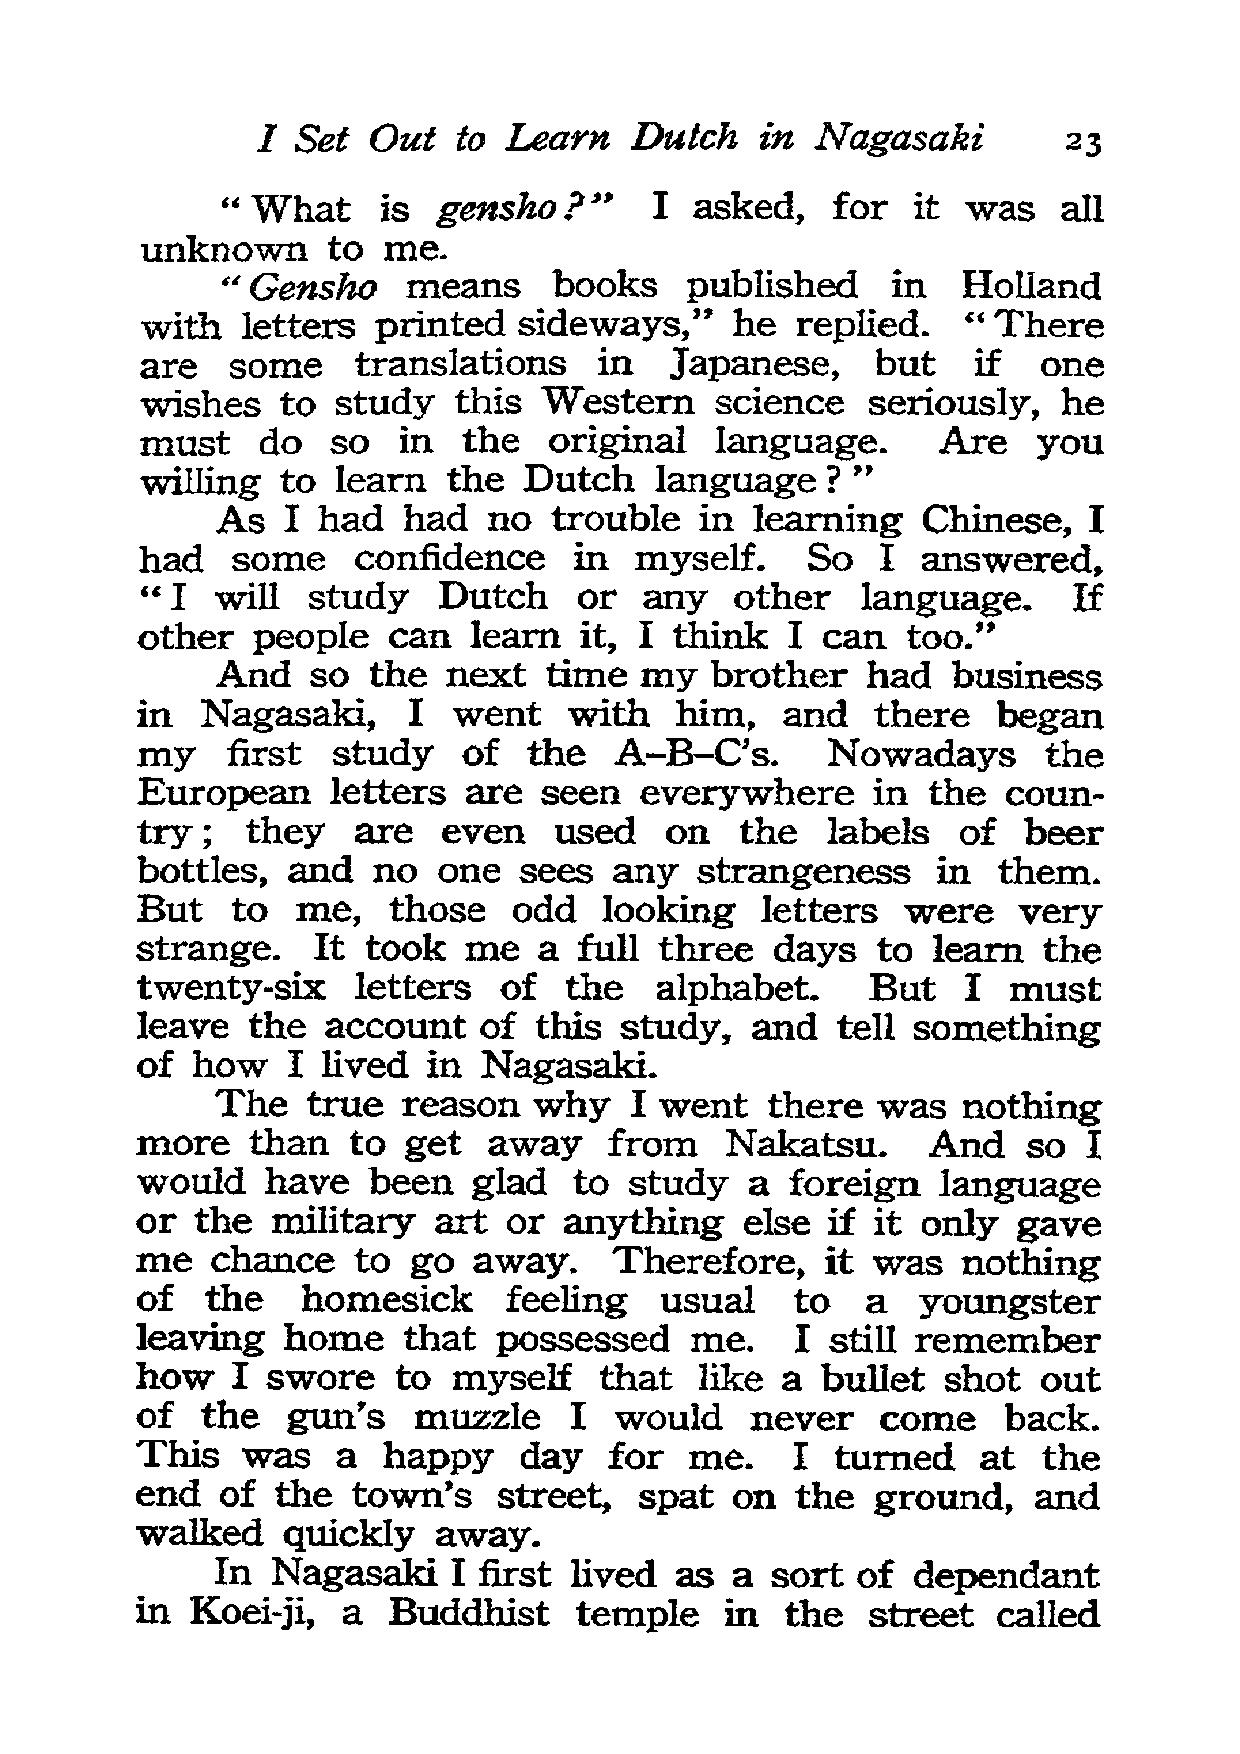content: (126, 185, 1108, 1636)
content_chapter: (252, 117, 985, 158)
content_pagenumber: (1063, 127, 1104, 157)
